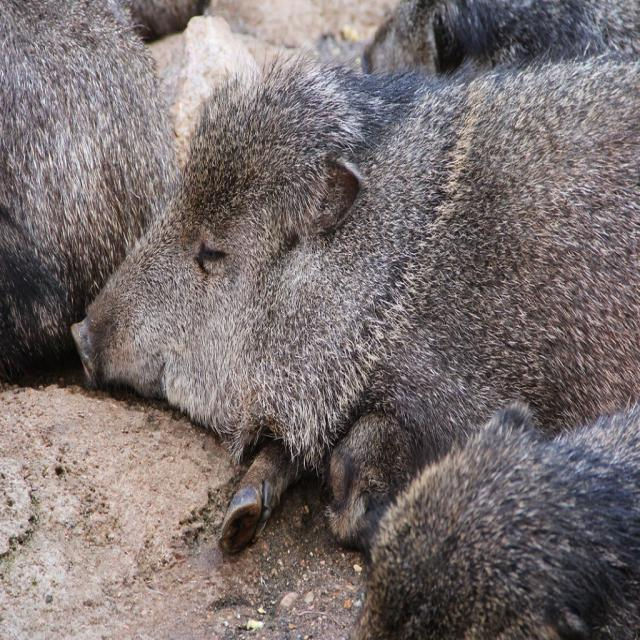Pig: (69, 35, 640, 558), (0, 0, 211, 382), (345, 403, 640, 640), (360, 0, 640, 75)
